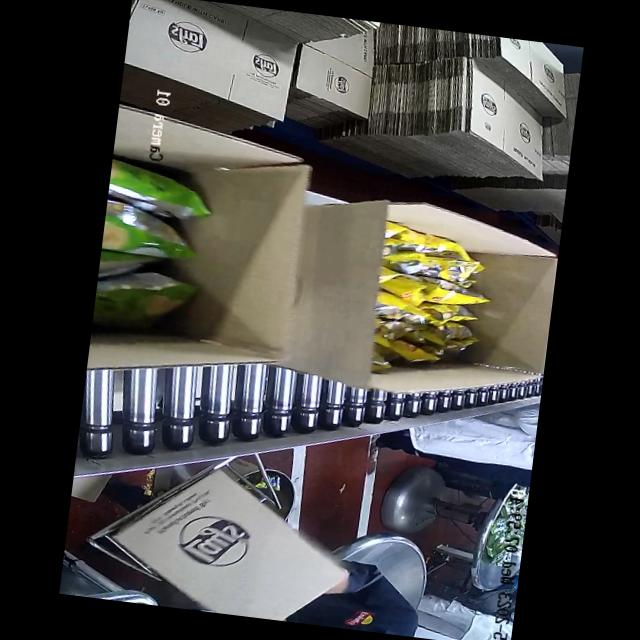salted: (365, 219, 498, 385)
yogurt: (88, 150, 229, 362)
